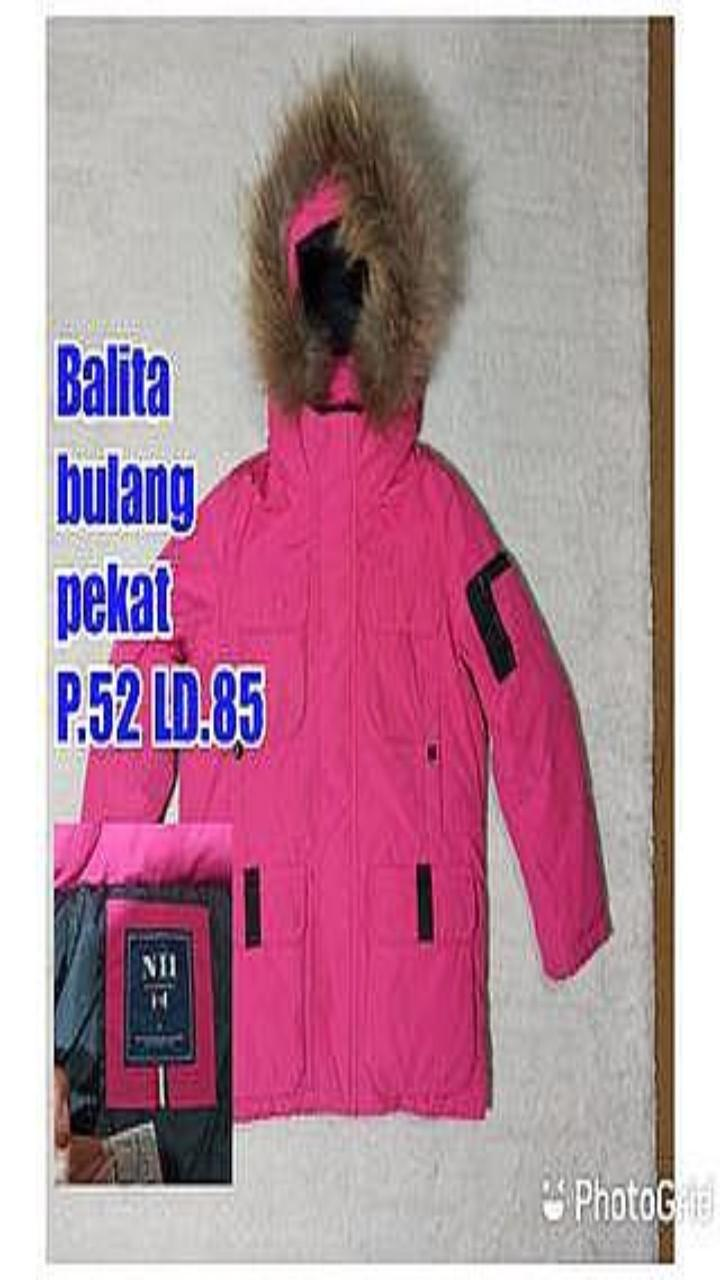Sports_Jacket: (84, 64, 608, 1118)
